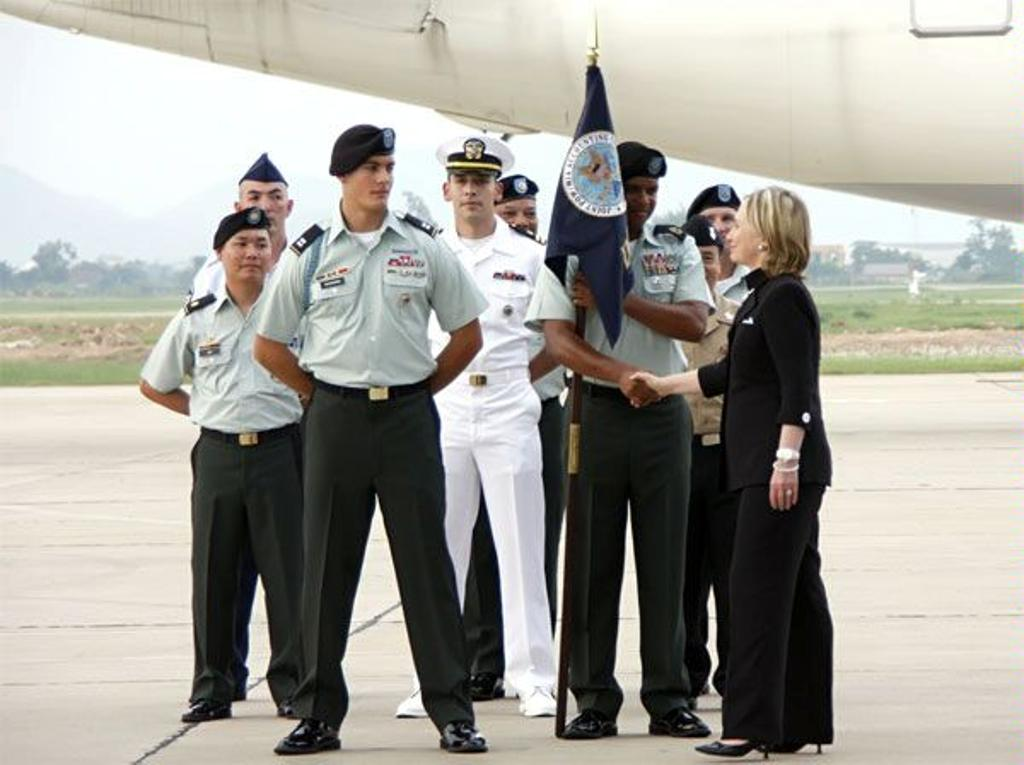face: (347, 155, 396, 209), (221, 232, 271, 278), (242, 181, 285, 234), (450, 168, 494, 218), (726, 199, 759, 262), (620, 175, 658, 227), (497, 200, 538, 247), (699, 207, 738, 250), (686, 246, 719, 291)
